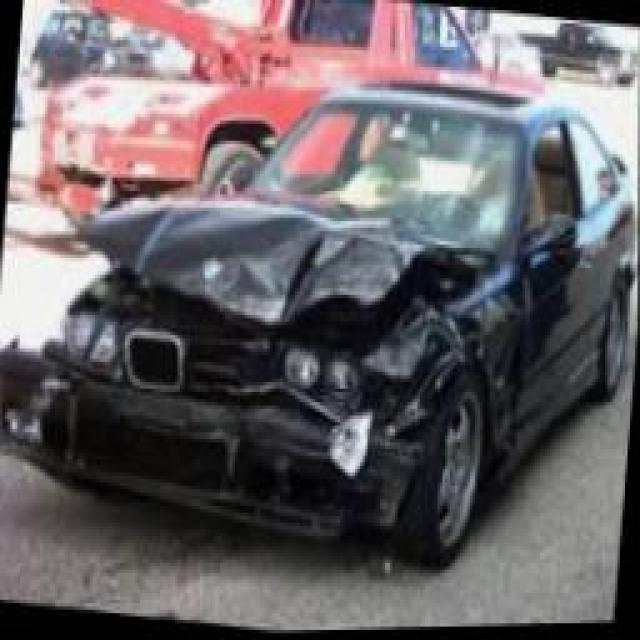Bonnet: (77, 194, 446, 321)
Bumper: (0, 340, 402, 542)
Fender: (383, 277, 520, 451)
Light: (281, 339, 386, 408)
